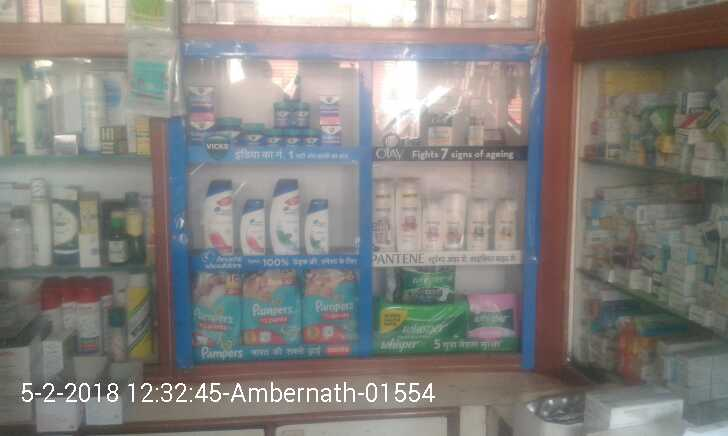vicks: (187, 70, 339, 146)
